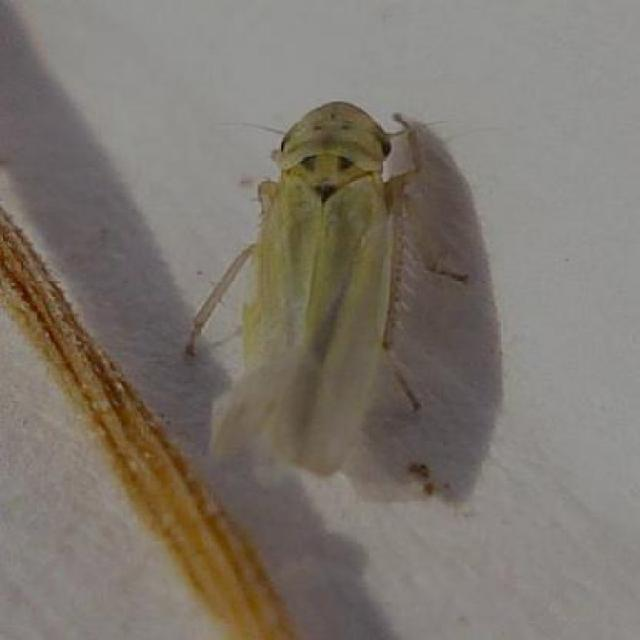green-leafhopper: (210, 67, 424, 476)
